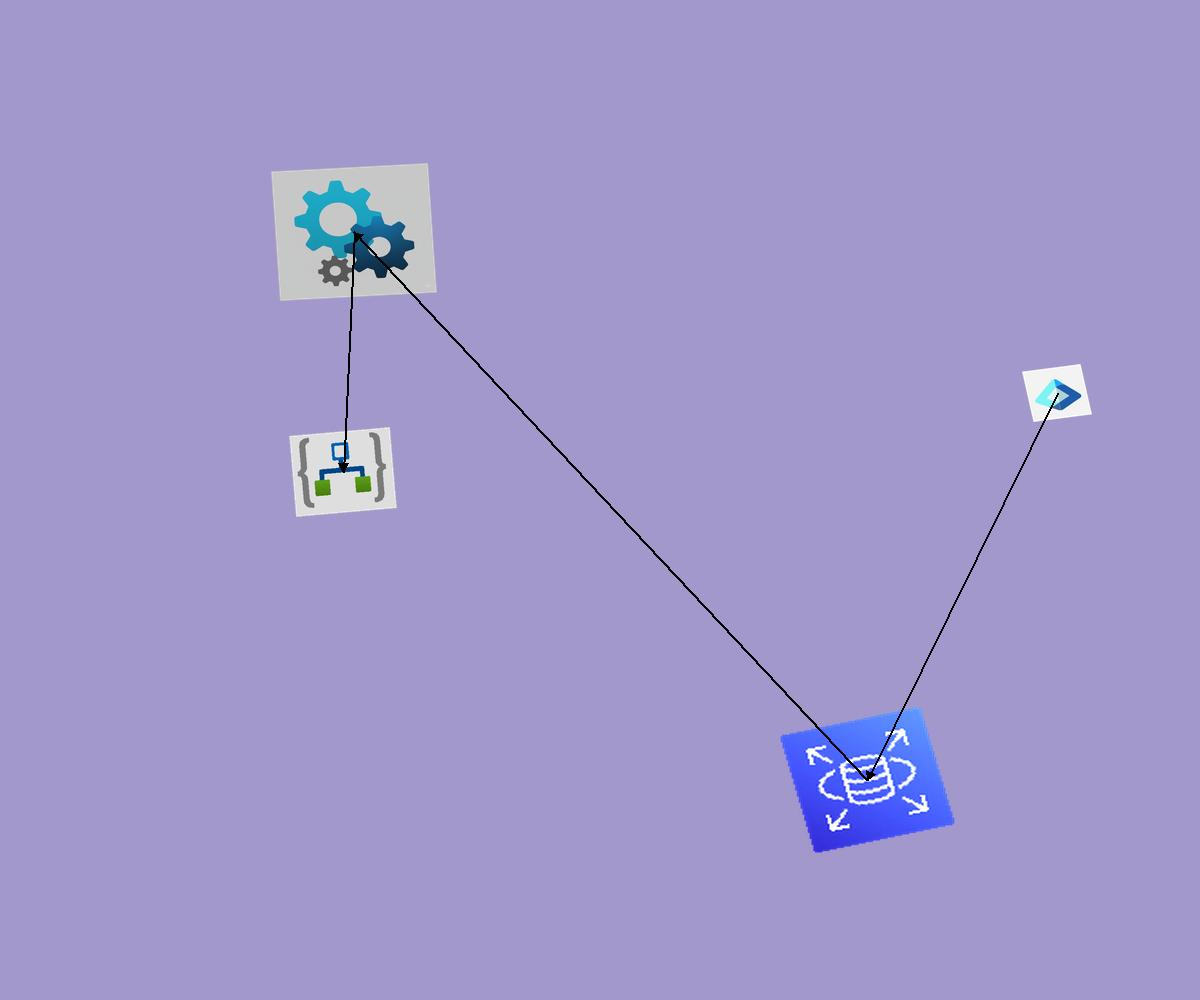AWS-RDS: (779, 706, 956, 854)
Azure_api: (271, 163, 437, 301)
Azure_integration-204-Logic-Apps: (289, 427, 397, 517)
Azure_microsoft_entra: (1022, 364, 1092, 422)
